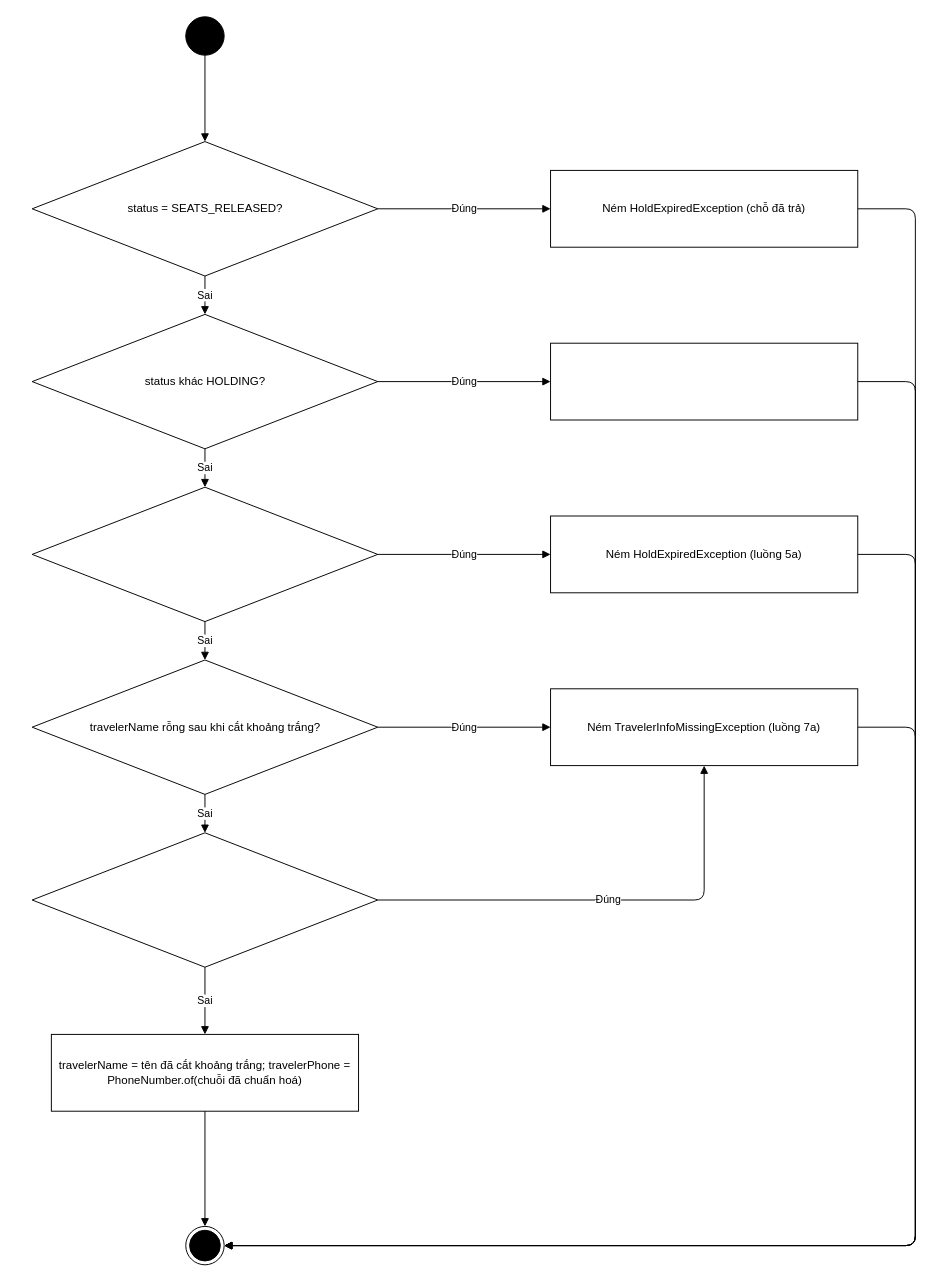
This 940x1282 diagram has some shape labels left out. The shapes that lost their labels are listed below. From the top down, each one's box as (x1, y1, x2, y2) in pixels, then its label:
(550, 342, 858, 420): Ném IllegalStateException
(31, 486, 378, 622): isHoldExpired(now)?
(31, 832, 378, 967): travelerPhone rỗng sau khi bỏ khoảng trắng, dấu chấm, dấu gạch ngang?
